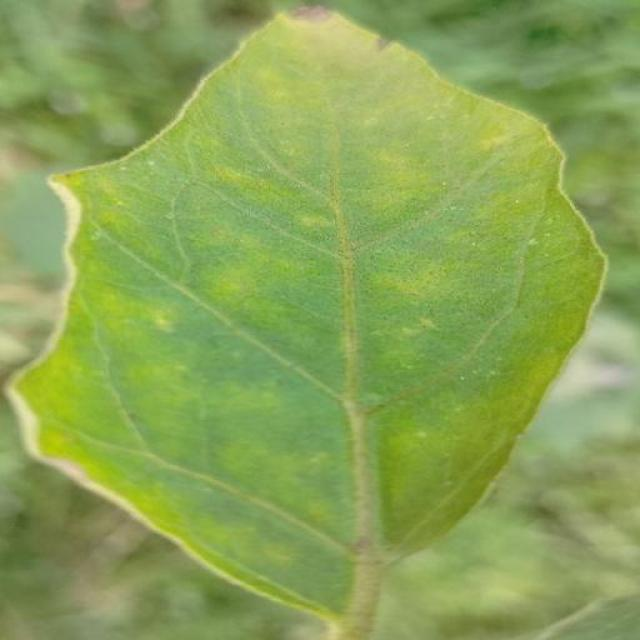leaf_spot: (1, 340, 180, 540), (39, 160, 197, 385), (190, 361, 374, 532), (151, 501, 349, 640), (390, 38, 566, 193), (496, 157, 620, 369), (310, 195, 426, 401), (335, 410, 511, 541), (240, 44, 382, 194), (125, 45, 263, 190), (477, 257, 575, 425), (208, 150, 344, 261), (367, 234, 500, 328), (210, 375, 316, 489), (181, 245, 300, 334), (435, 100, 529, 163), (218, 71, 324, 116), (332, 10, 407, 73), (368, 128, 426, 202), (264, 2, 348, 44)
